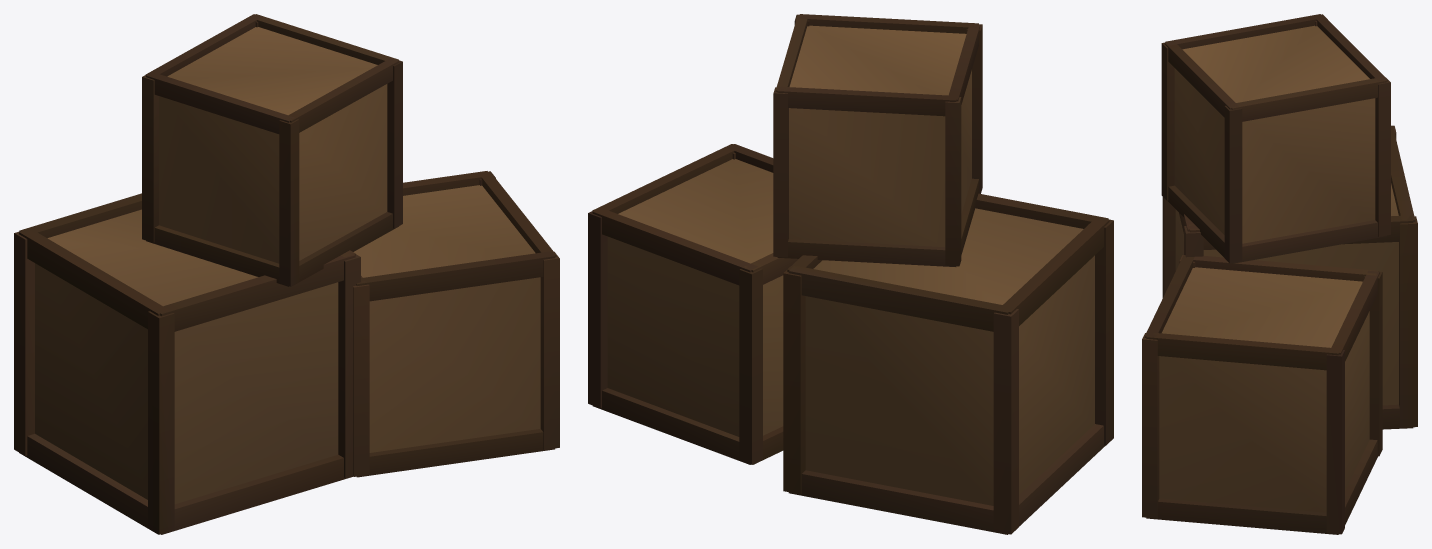
The model's file is crates.glb.
3 views of the same model, side by side, from view 1: azimuth 30°, elevation 25°; view 2: azimuth 150°, elevation 25°; view 3: azimuth 270°, elevation 25° (orthographic). The views are drawn at different scales.
Visible parts, largest first — view 1: crates; view 2: crates; view 3: crates.
Boxes of the visible parts, left/top/right/bottom form: crates: left=14, top=14, right=559, bottom=534; crates: left=588, top=14, right=1113, bottom=534; crates: left=1142, top=14, right=1417, bottom=534.
Bounding box in the file's own units: 1.73 × 1.41 × 0.9845.
